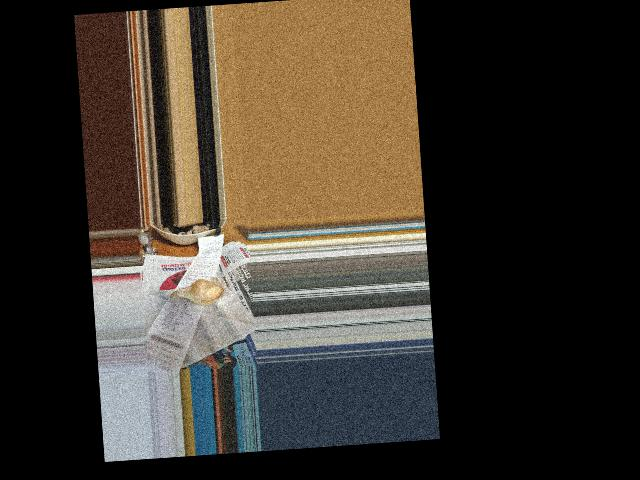onion: (183, 279, 223, 305)
